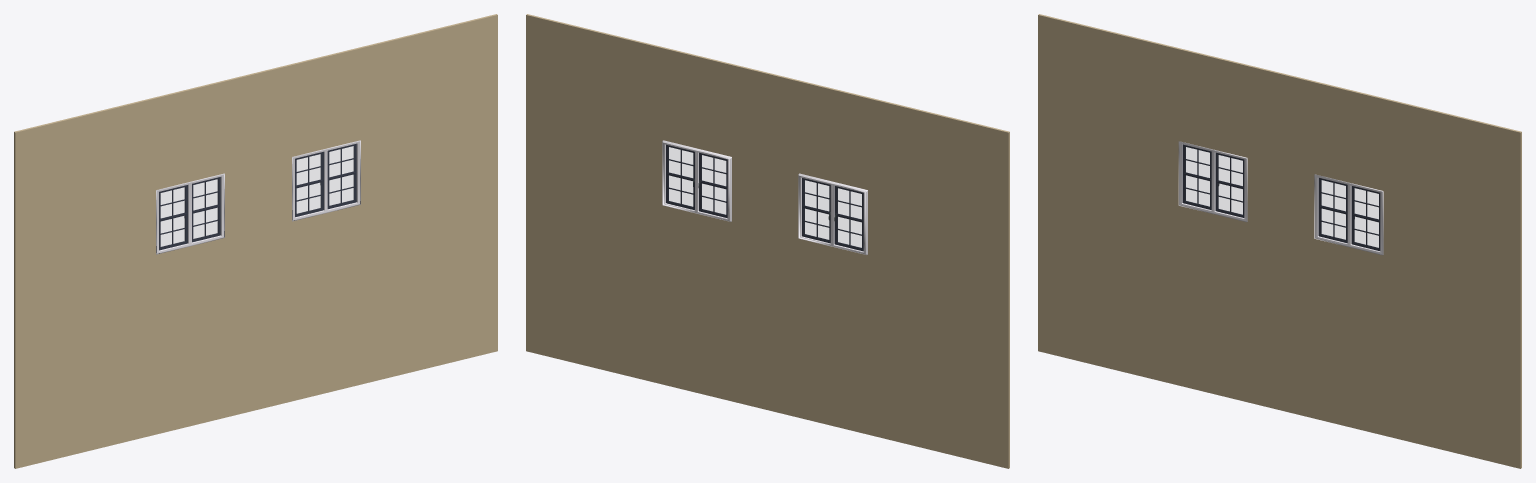
The model's file is wallS.fbx.
3 renders of one model, left to right at view 1: azimuth 30°, elevation 25°; view 2: azimuth 150°, elevation 25°; view 3: azimuth 330°, elevation 25°, orthographic.
Visible parts, largest first — view 1: wallS, glass.001, glass, outerframe.001, outerframe, innerframe, innerframe.001, middleframe.001, middleframe; view 2: wallS, glass, glass.001, outerframe, outerframe.001, innerframe, innerframe.001, middleframe, middleframe.001; view 3: wallS, glass, glass.001, outerframe, outerframe.001, innerframe.001, innerframe, middleframe.001, middleframe.
Part boxes in pixels (x1,y1,x2,y2): wallS: (14,14,497,468); glass.001: (297,146,353,213); glass: (161,180,217,246); outerframe.001: (292,140,360,221); outerframe: (156,173,224,254); innerframe: (160,178,218,248); innerframe.001: (296,145,354,214); middleframe.001: (295,143,356,217); middleframe: (159,177,220,250); wallS: (526,14,1009,468); glass: (805,181,861,247); glass.001: (669,147,725,214); outerframe: (798,173,867,254); outerframe.001: (662,140,731,221); innerframe: (804,179,862,248); innerframe.001: (668,146,726,215); middleframe: (802,178,863,251); middleframe.001: (666,144,727,218); wallS: (1038,14,1521,468); glass: (1186,147,1242,214); glass.001: (1322,181,1378,247); outerframe: (1178,141,1247,222); outerframe.001: (1314,174,1383,255); innerframe.001: (1320,179,1379,248); innerframe: (1184,146,1243,215); middleframe.001: (1318,178,1380,250); middleframe: (1182,144,1244,217).
Size of the model in its own units: 776 by 517 by 8.46.
